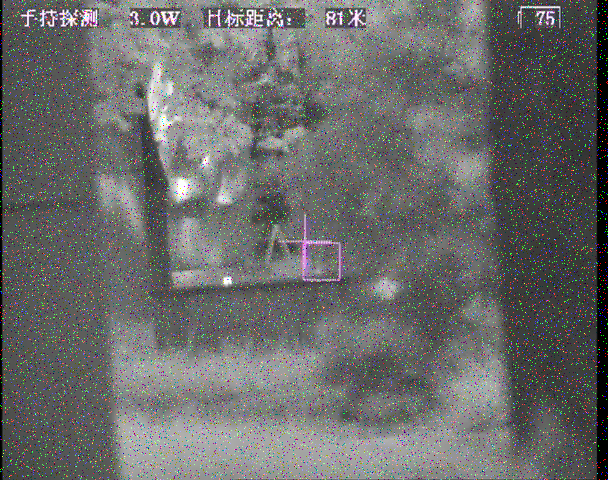my: (222, 275, 234, 287)
